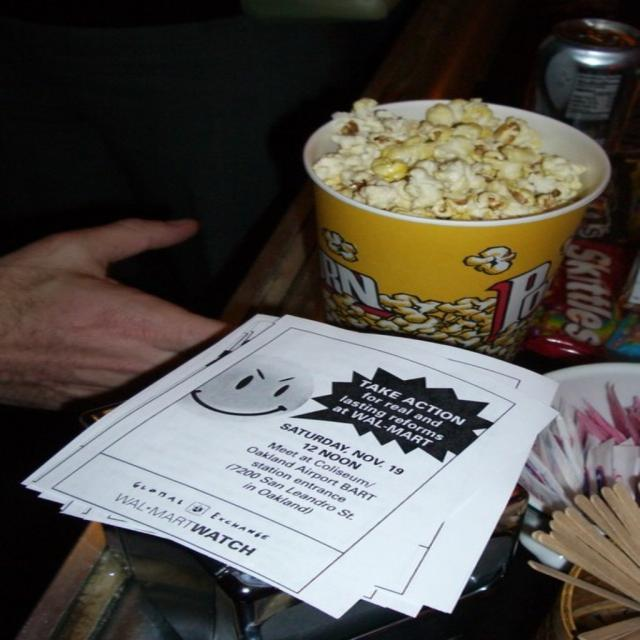Popcorn: (313, 97, 595, 221), (320, 297, 532, 365), (466, 242, 520, 274), (322, 230, 362, 263)
